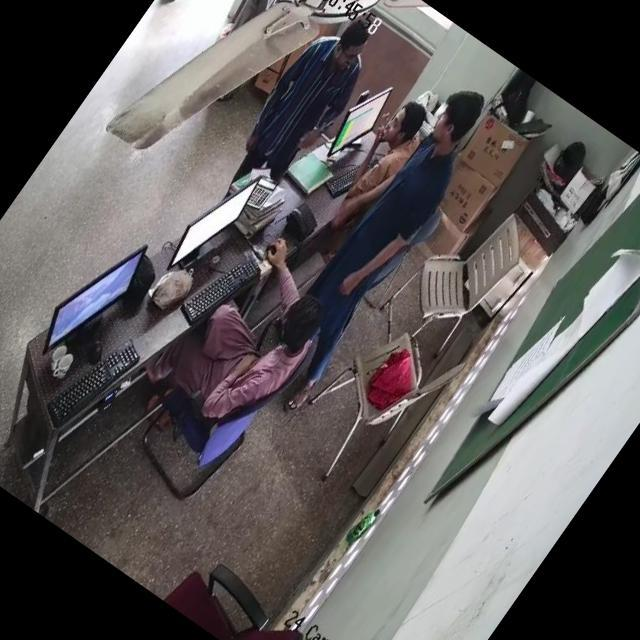person: (256, 84, 504, 408), (166, 264, 338, 442), (230, 12, 384, 196), (337, 86, 440, 208)
